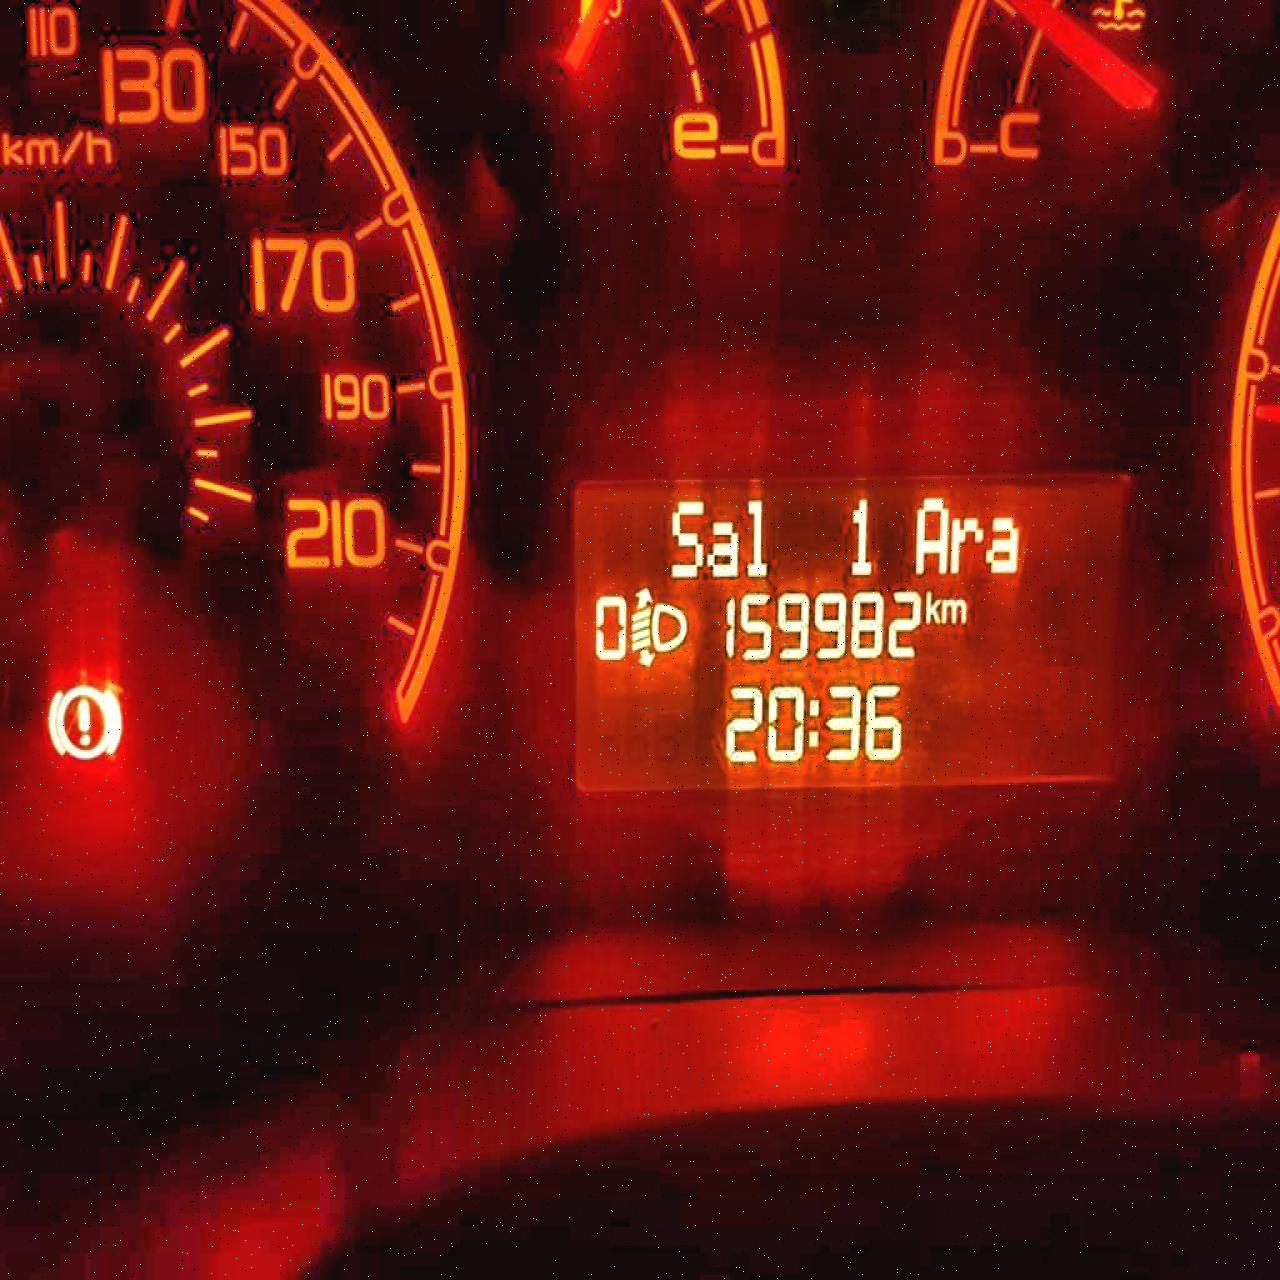0: (765, 683, 803, 762), (592, 590, 627, 665)
1: (847, 489, 877, 579), (716, 590, 735, 659)
2: (722, 681, 762, 767), (887, 585, 920, 660)
3: (826, 680, 860, 762)
5: (738, 586, 772, 661)
6: (865, 680, 905, 765)
8: (850, 587, 881, 660)
9: (812, 588, 846, 663), (775, 588, 809, 659)
X: (912, 493, 948, 573), (667, 497, 701, 578), (742, 493, 769, 579), (986, 510, 1019, 577), (948, 513, 983, 572), (706, 517, 740, 576), (805, 694, 821, 754), (941, 593, 965, 625), (922, 587, 939, 624)
odometer: (560, 468, 1131, 795)
